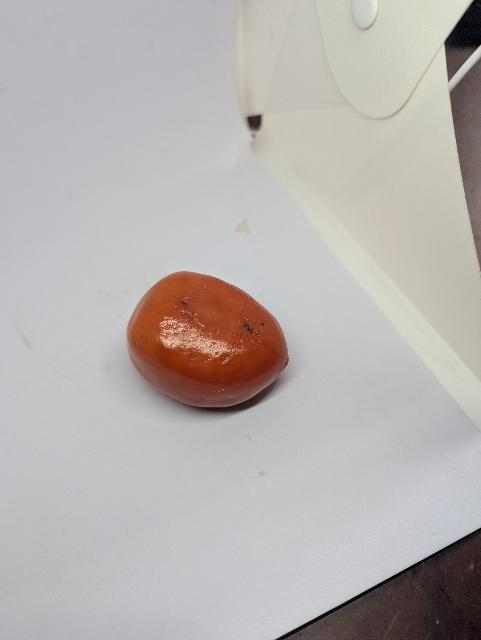defect: (122, 267, 296, 415)
